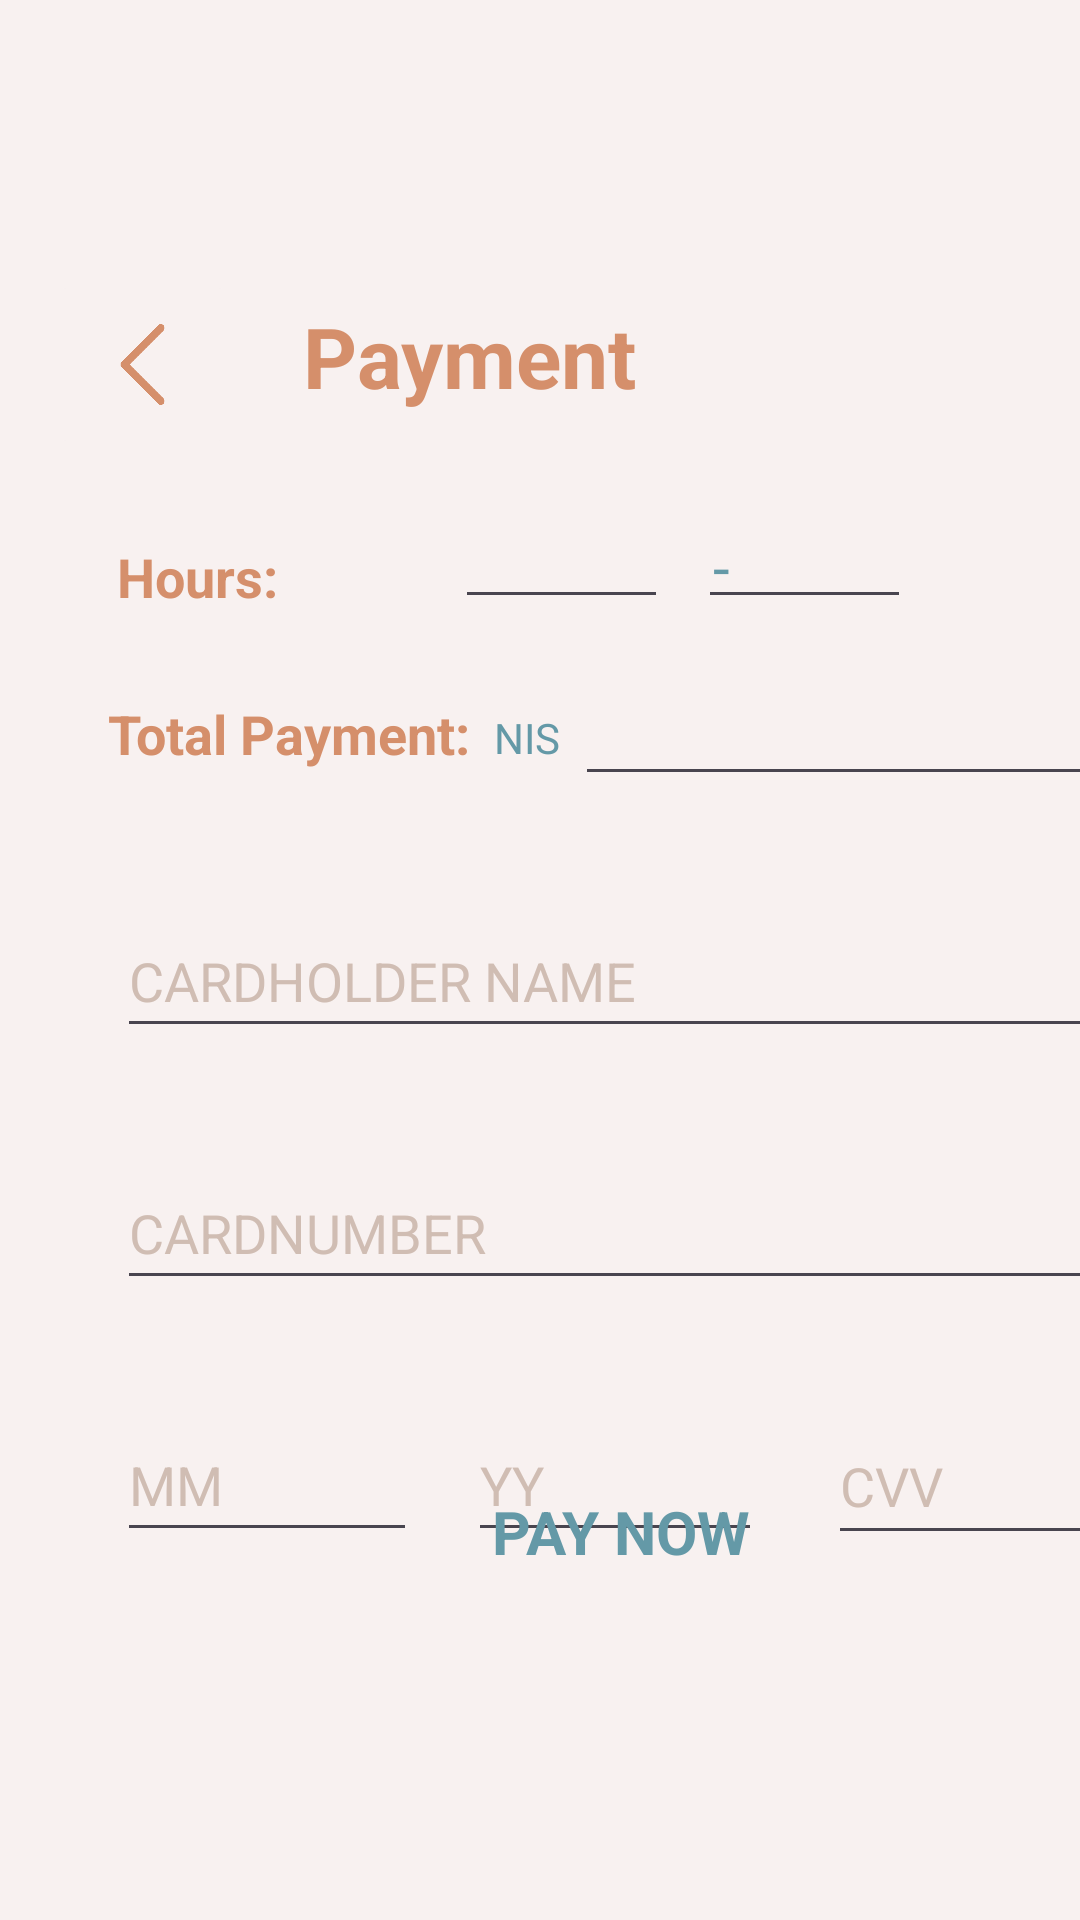

Icons on this 1080*1920 Android screen, each with the point to tap as point (x, y):
backarrow: point (142, 364)
